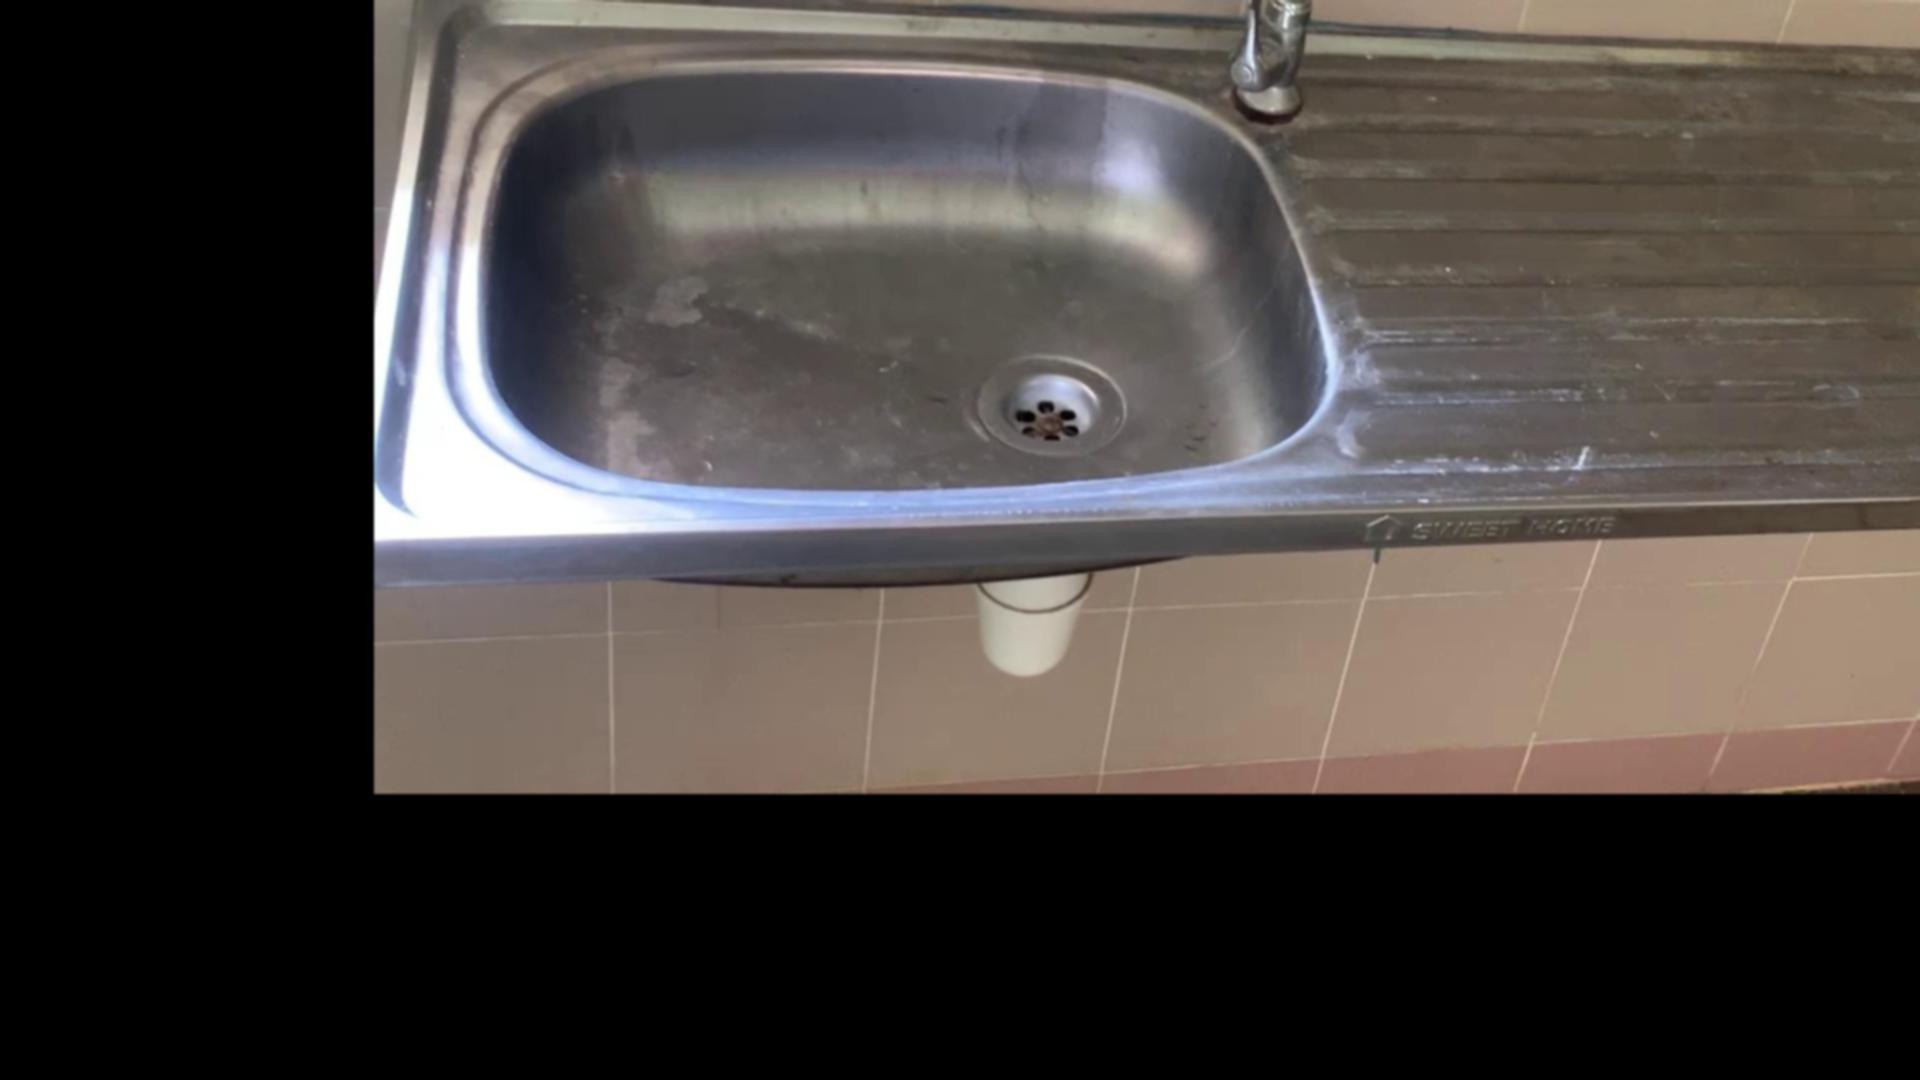Lavaplatos: (375, 0, 1592, 636)
